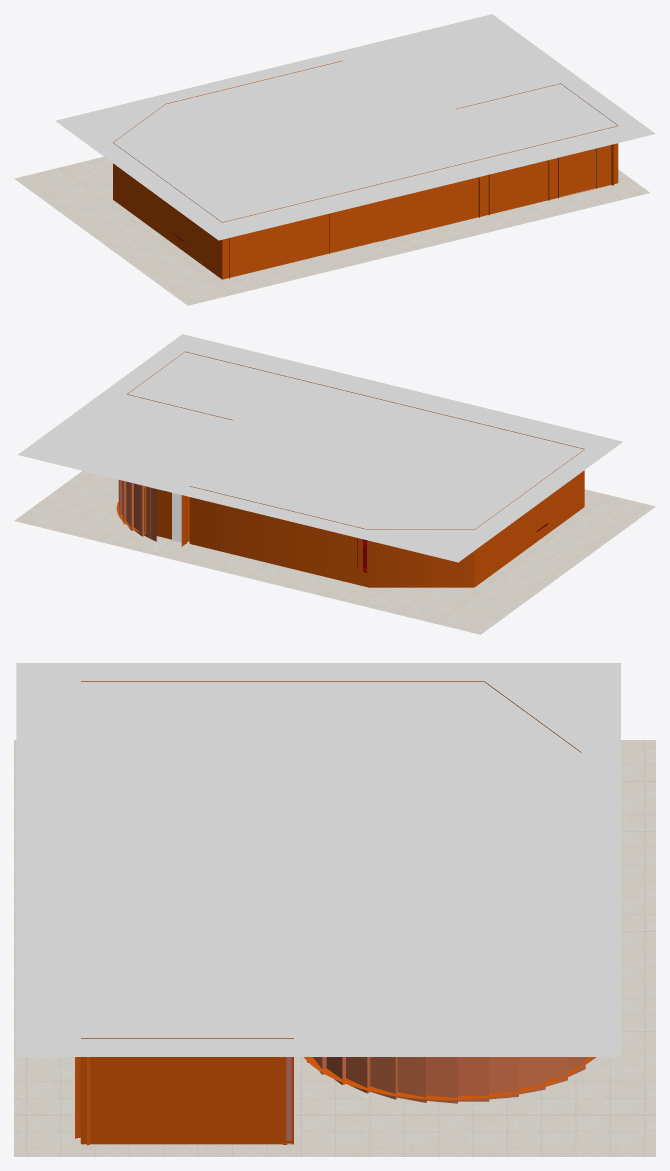
3 renders of one model, top to bottom at view 1: azimuth 30°, elevation 25°; view 2: azimuth 150°, elevation 25°; view 3: azimuth 270°, elevation 25°, orthographic. The views are drawn at different scales.
Visible parts, largest first — view 1: 棚顶, 外墙壁_2, 地面, 踢脚线; view 2: 棚顶, 地面, 外墙壁_2, 弧形格栅, 立方体_12; view 3: 棚顶, 地面, 外墙壁_2, 弧形格栅, 圆柱体, pillar.
Boxes of the visible parts, x1,y1,x2,y2 form: 棚顶: [55, 14, 655, 240]; 外墙壁_2: [113, 60, 618, 279]; 地面: [14, 156, 649, 305]; 踢脚线: [386, 182, 617, 239]; 棚顶: [18, 334, 622, 562]; 地面: [14, 471, 655, 634]; 外墙壁_2: [127, 351, 584, 587]; 弧形格栅: [118, 480, 156, 541]; 立方体_12: [150, 487, 186, 546]; 棚顶: [16, 663, 620, 1056]; 地面: [14, 740, 655, 1156]; 外墙壁_2: [81, 681, 581, 1144]; 弧形格栅: [307, 1057, 596, 1103]; 圆柱体: [304, 1057, 592, 1099]; pillar: [75, 1057, 90, 1145].
Bounding box in the file's own units: 1561 × 205 × 1003.
Materials: 28 (9 with a texture image).
